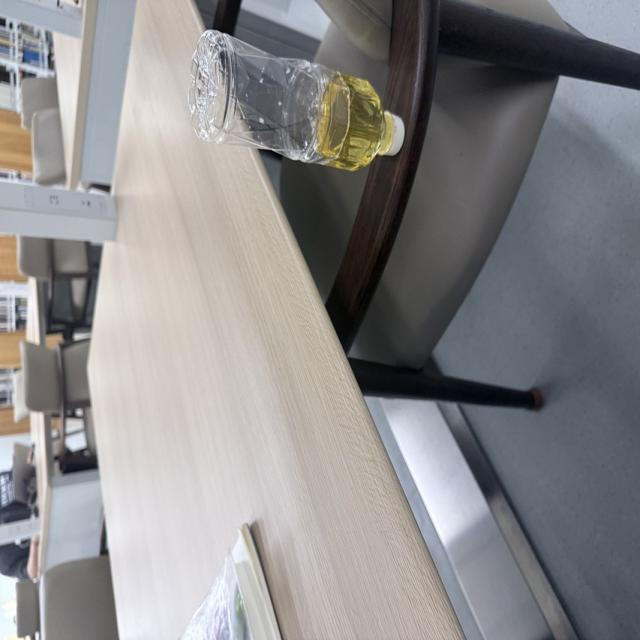low: (189, 30, 404, 170)
